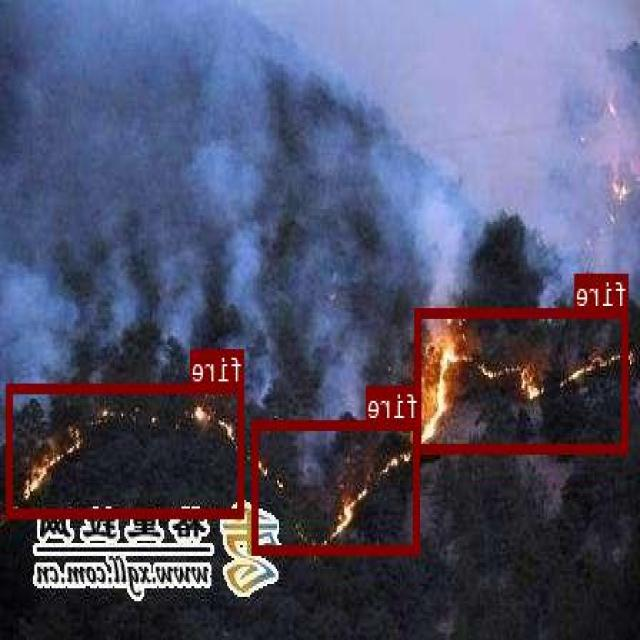fire: (8, 382, 244, 515), (416, 307, 629, 452), (254, 418, 420, 554)
